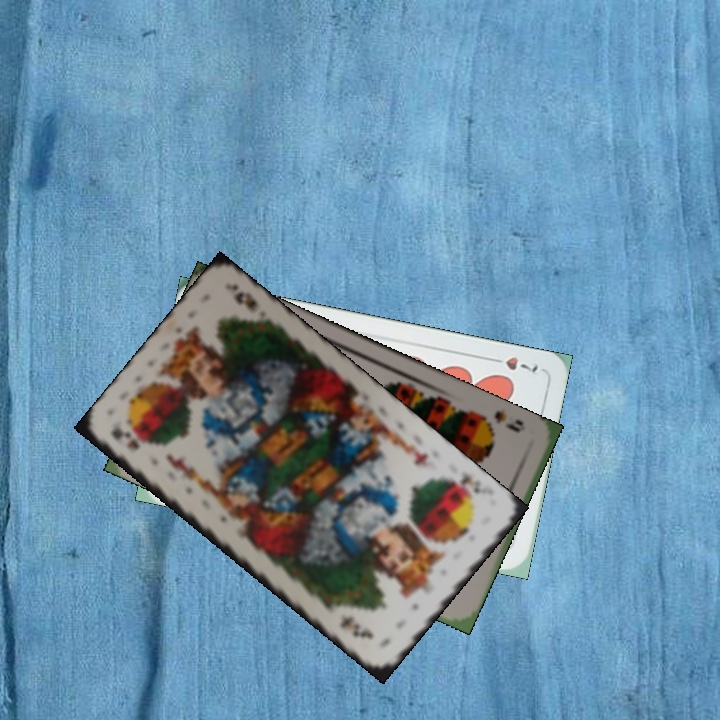H7: (484, 352, 541, 378)
S9: (475, 406, 527, 435)
SK: (107, 420, 143, 453), (455, 469, 491, 498)
